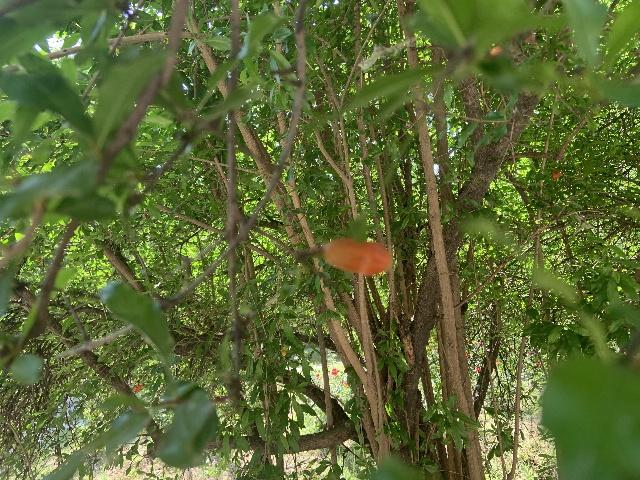bud: (321, 237, 392, 275), (490, 46, 502, 56), (36, 257, 41, 262)
flower: (551, 169, 561, 180), (132, 384, 143, 392)
